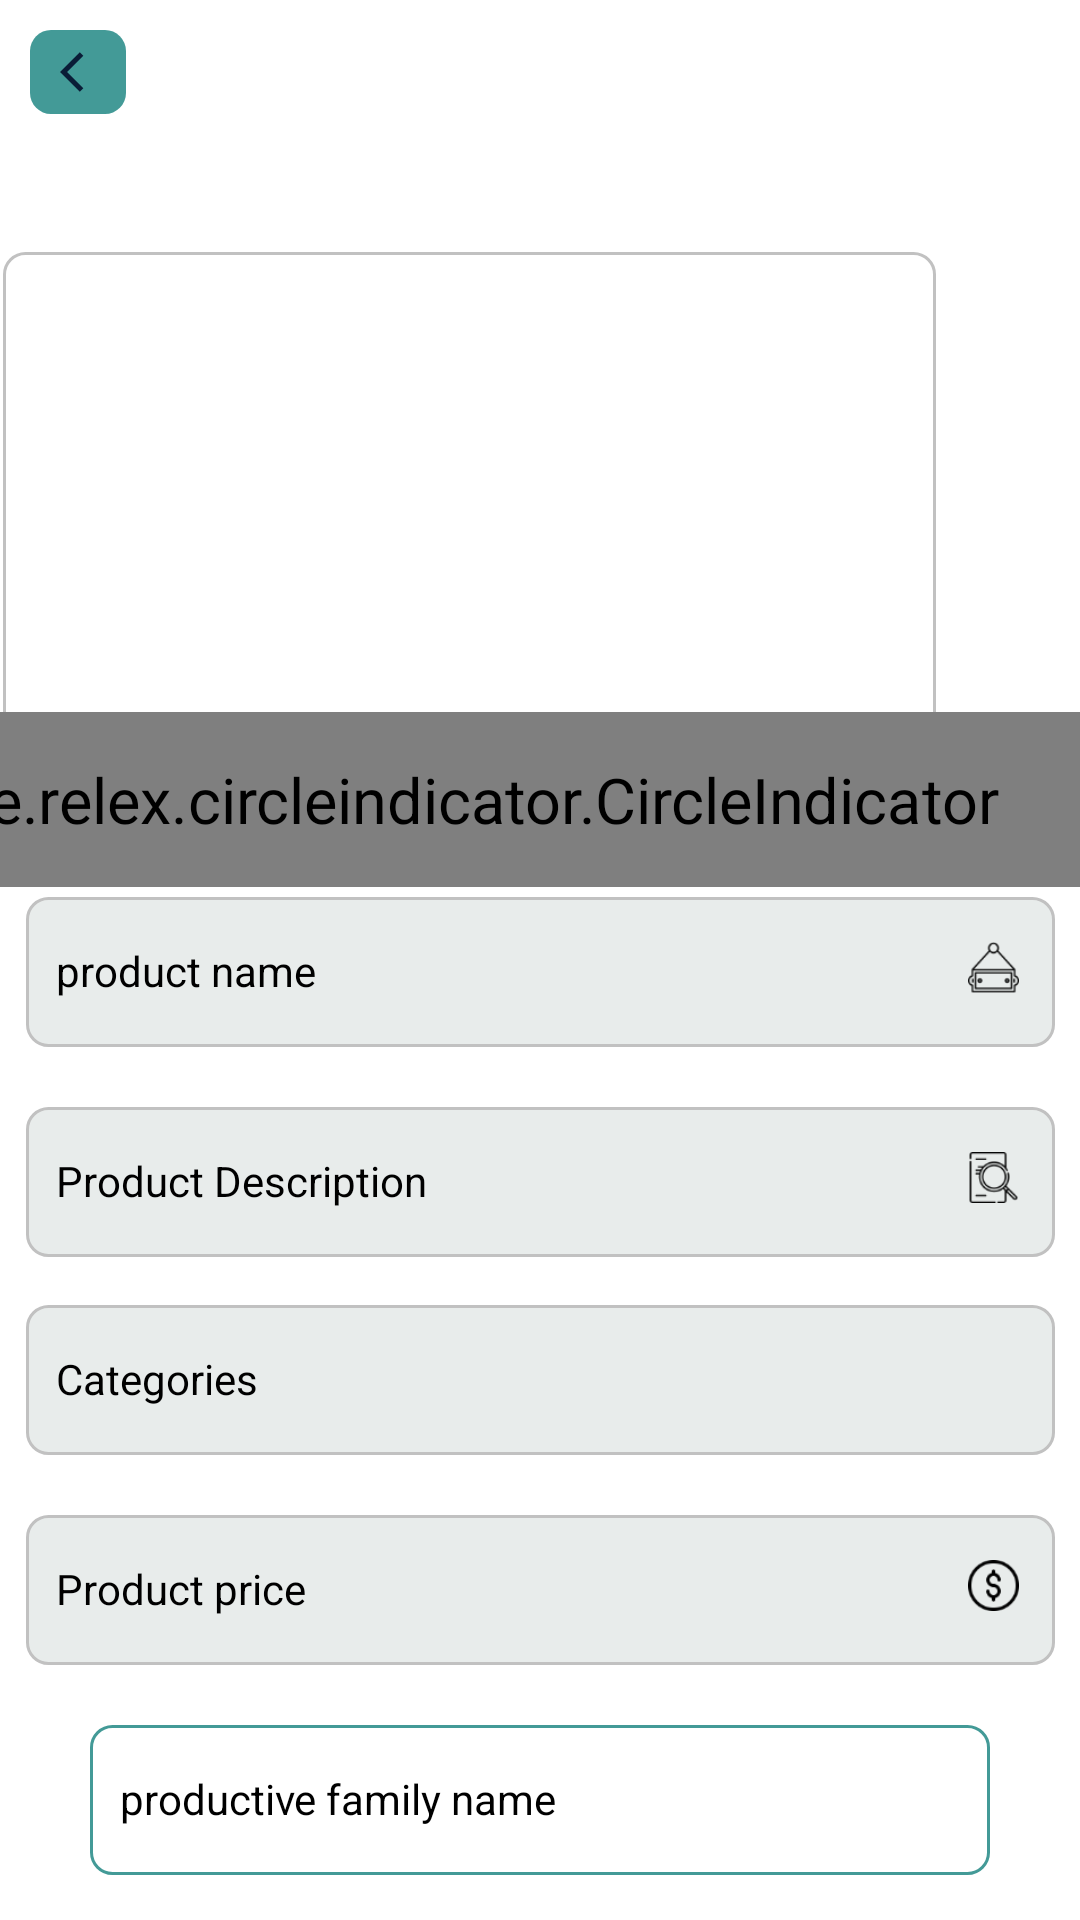

Where to tap for icons on this 1080×1920 app screen, as [x,y]:
arrow back: [71,72]
